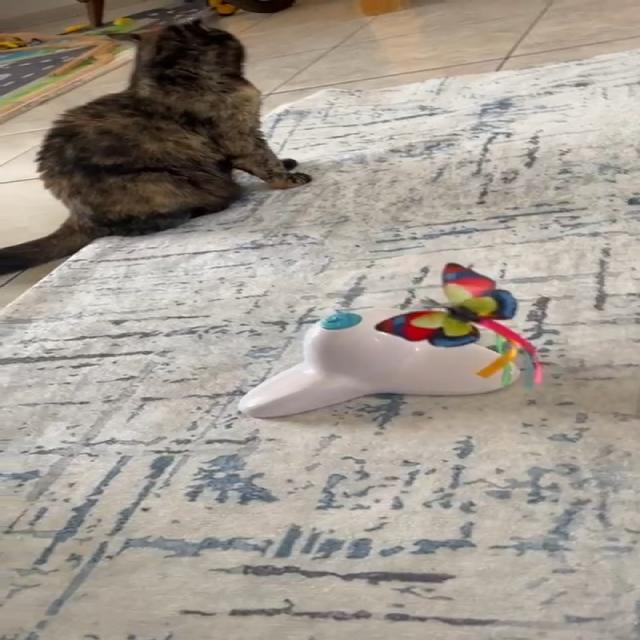authorized: (0, 17, 312, 276)
